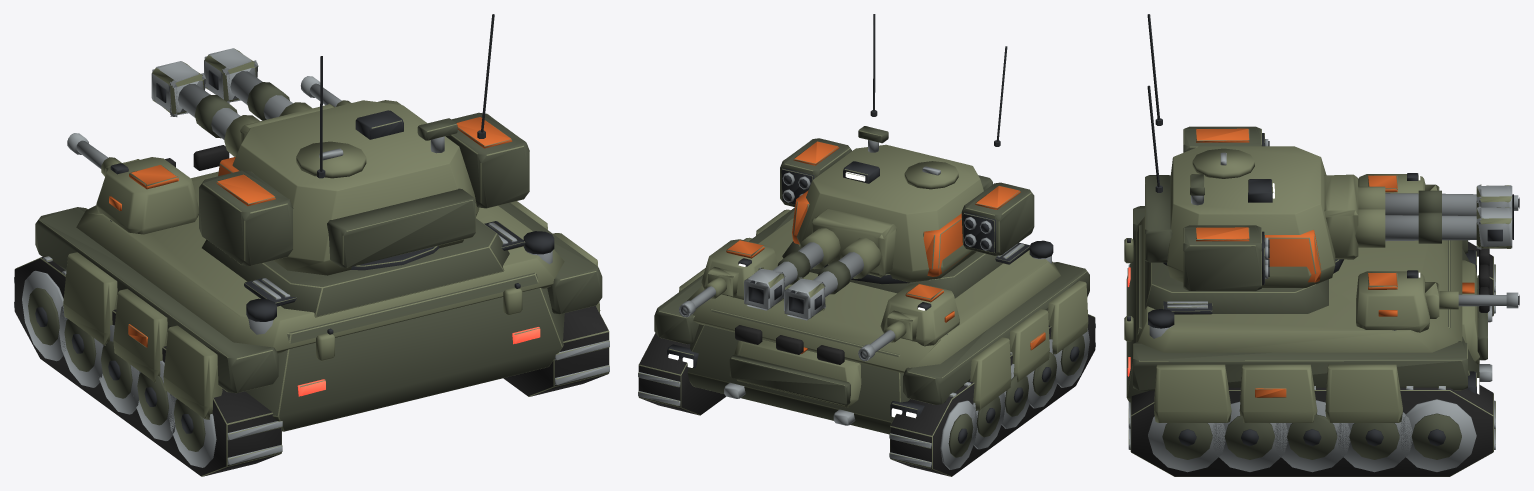
Rendered from boss.glb.
3 views of the same model, side by side, from view 1: azimuth 30°, elevation 25°; view 2: azimuth 150°, elevation 25°; view 3: azimuth 270°, elevation 25° (orthographic). The views are drawn at different scales.
Visible parts, largest first — view 1: boss_hull, boss_main_turret, boss_track_L, boss_rocket_cassettes, boss_aux_L_turret, boss_track_R, boss_main_barrel_L, boss_main_barrel_R, boss_aux_L_gun, boss_aux_R_gun; view 2: boss_hull, boss_main_turret, boss_track_L, boss_rocket_cassettes, boss_track_R, boss_main_barrel_L, boss_main_barrel_R, boss_aux_L_turret, boss_main_mantlet, boss_aux_R_turret, boss_aux_L_gun, boss_aux_R_gun (+2 smaller); view 3: boss_hull, boss_track_R, boss_main_turret, boss_rocket_cassettes, boss_main_barrel_R, boss_aux_R_turret, boss_main_barrel_L, boss_main_mantlet, boss_aux_R_gun, boss_aux_L_turret, boss_aux_R_mantlet.
Part boxes in pixels (x1,y1,x2,y2): boss_hull: [35, 145, 602, 431]; boss_main_turret: [218, 14, 494, 275]; boss_track_L: [14, 256, 282, 476]; boss_rocket_cassettes: [199, 112, 529, 265]; boss_aux_L_turret: [96, 157, 198, 234]; boss_track_R: [503, 305, 609, 396]; boss_main_barrel_L: [151, 61, 259, 156]; boss_main_barrel_R: [204, 48, 312, 120]; boss_aux_L_gun: [67, 133, 121, 176]; boss_aux_R_gun: [300, 76, 350, 106]; boss_hull: [654, 207, 1089, 434]; boss_main_turret: [792, 14, 1007, 284]; boss_track_L: [889, 314, 1095, 476]; boss_rocket_cassettes: [780, 138, 1034, 255]; boss_track_R: [638, 333, 725, 415]; boss_main_barrel_L: [784, 238, 882, 320]; boss_main_barrel_R: [744, 228, 840, 310]; boss_aux_L_turret: [880, 283, 959, 346]; boss_main_mantlet: [812, 208, 896, 277]; boss_aux_R_turret: [701, 239, 777, 299]; boss_aux_L_gun: [858, 321, 906, 361]; boss_aux_R_gun: [679, 277, 726, 317]; boss_hull: [1124, 206, 1492, 422]; boss_track_R: [1128, 384, 1495, 476]; boss_main_turret: [1145, 14, 1343, 287]; boss_rocket_cassettes: [1183, 126, 1269, 291]; boss_main_barrel_R: [1355, 206, 1513, 249]; boss_aux_R_turret: [1356, 270, 1429, 332]; boss_main_barrel_L: [1358, 184, 1513, 216]; boss_main_mantlet: [1324, 174, 1358, 259]; boss_aux_R_gun: [1439, 291, 1519, 309]; boss_aux_L_turret: [1358, 173, 1425, 193]; boss_aux_R_mantlet: [1425, 282, 1439, 318].
Bounding box in the file's own units: 1.49 × 1.45 × 1.5.
Materials: 3 (2 with a texture image).
